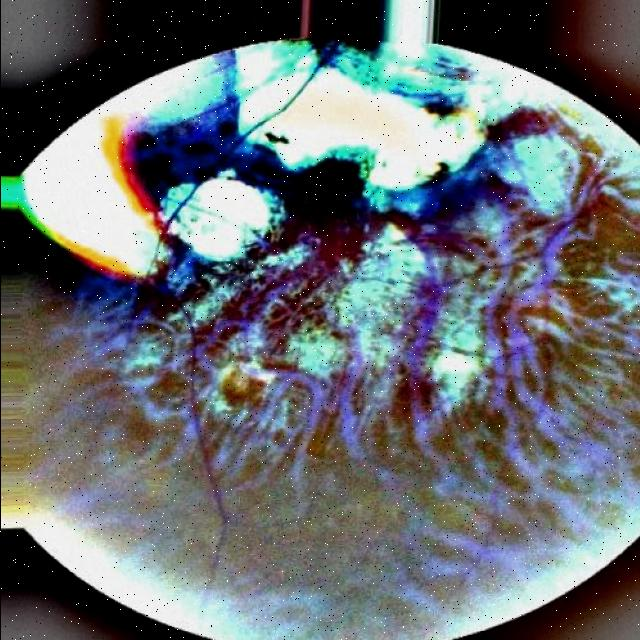Macula: (223, 358, 258, 401)
